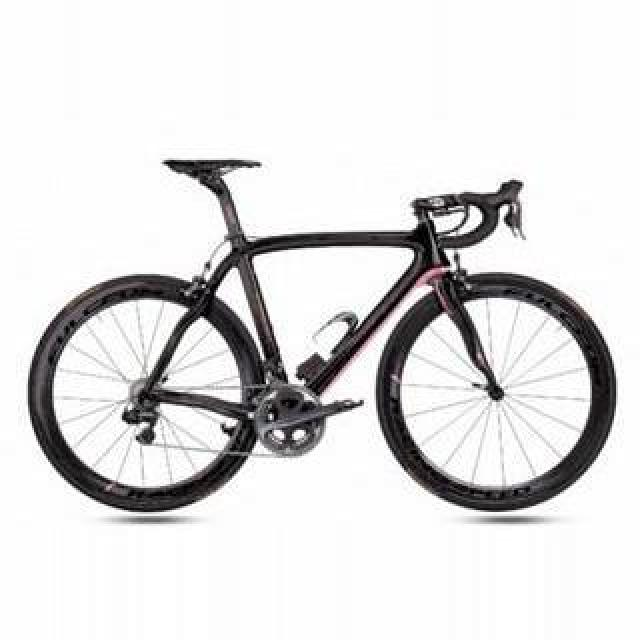Person: (31, 150, 619, 514)
